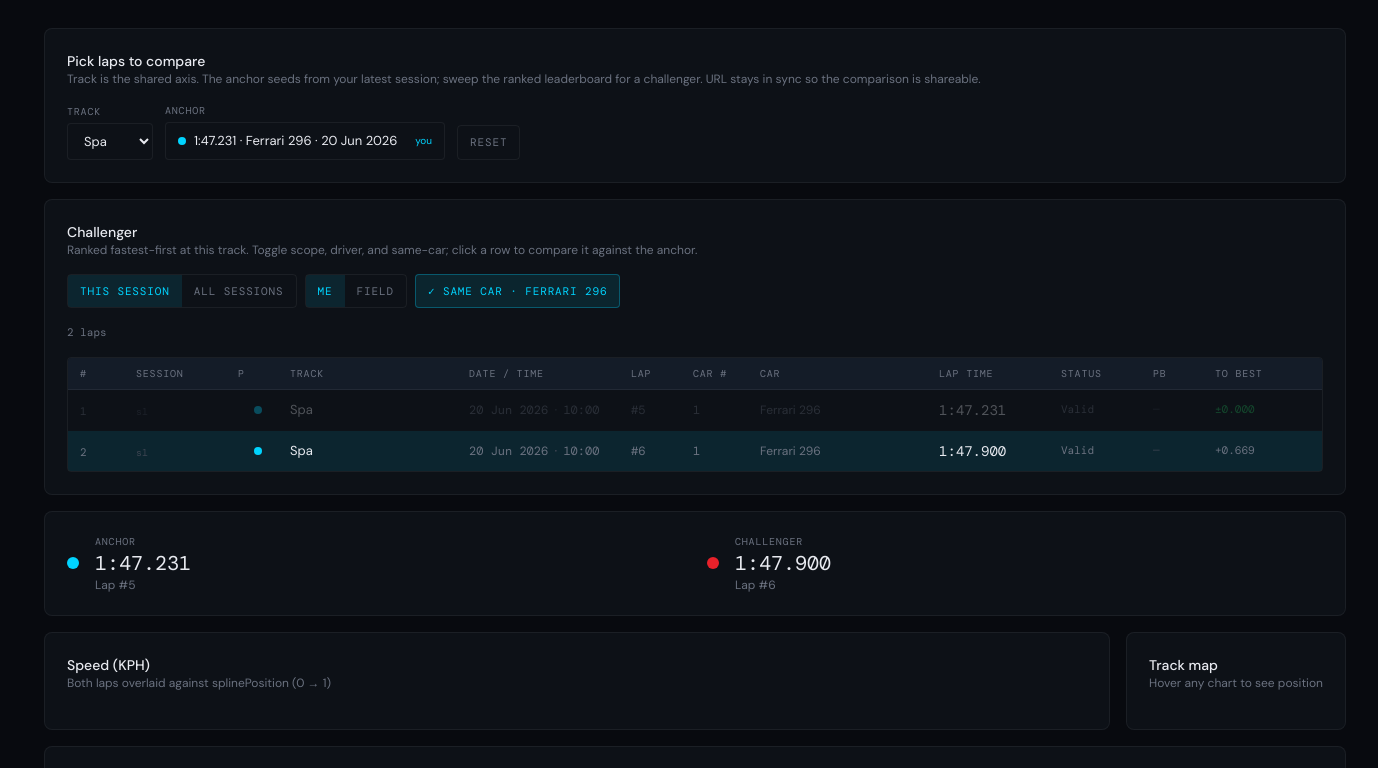
Scenario: CompareScreen track axis › clears anchor and challenger when the track changes
Select "Monza" in the dropdown: (110, 141) [67,122,153,160]
(page scrolled)
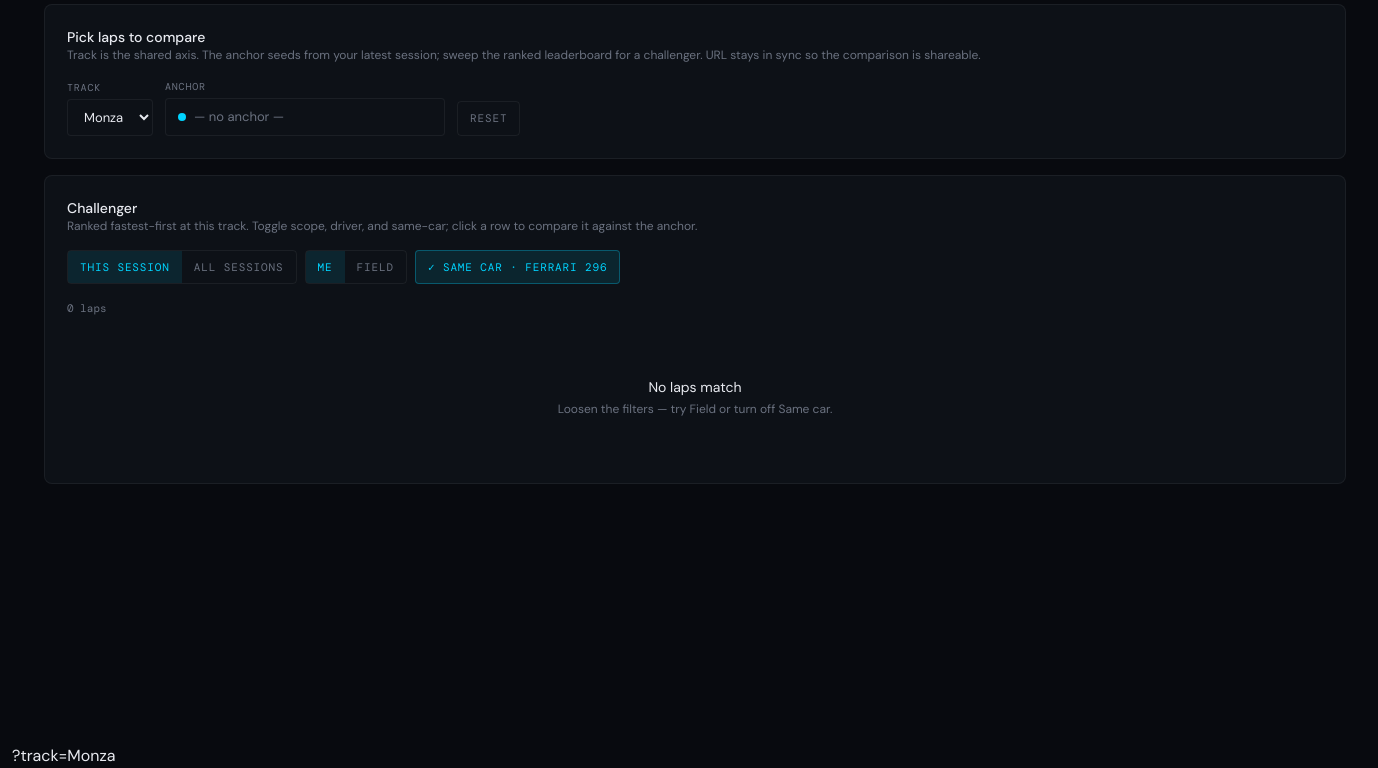
Expected: the text with test id "search" shows "track=Monza", [12,745,116,766]
